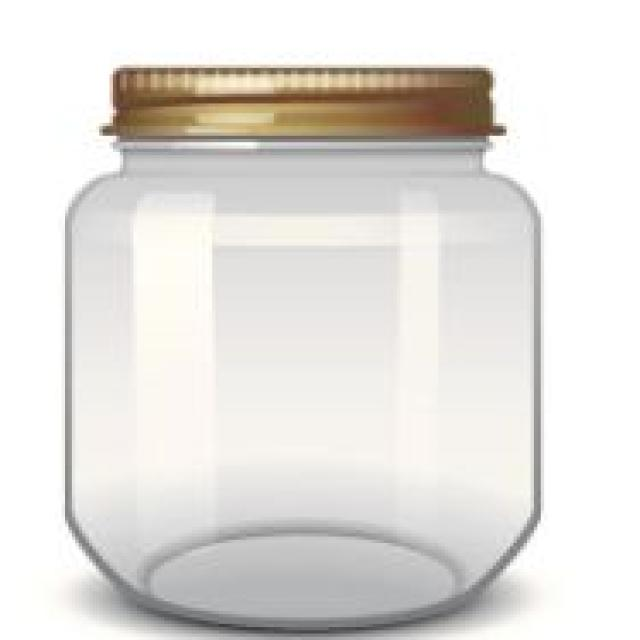electronic: (62, 64, 544, 637)
